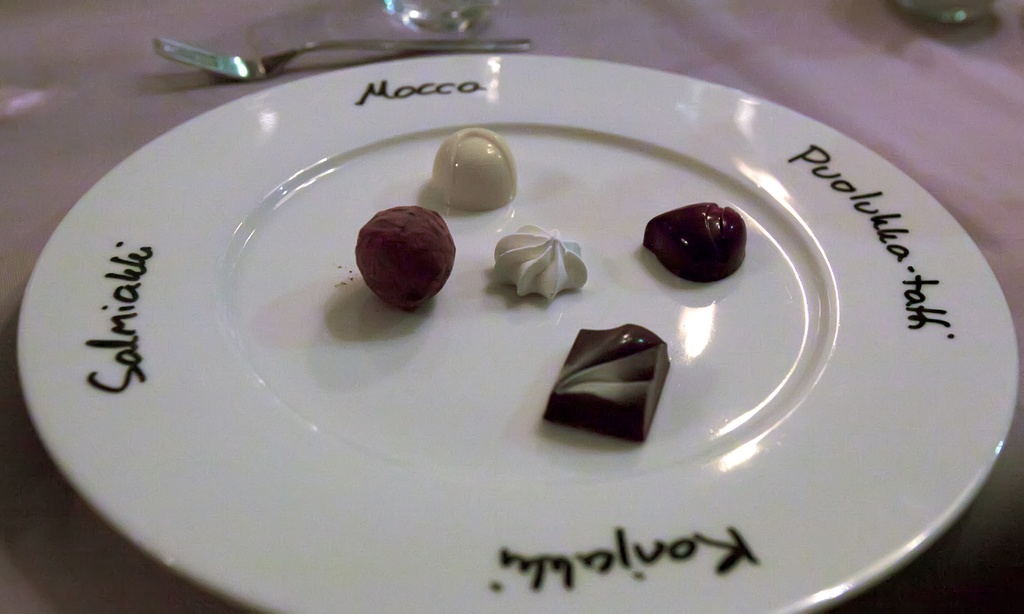plate: (74, 24, 982, 577)
